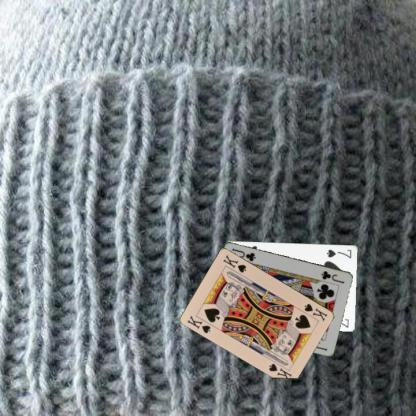7s: (324, 247, 353, 259)
Jc: (319, 268, 346, 286)
Ks: (301, 300, 328, 322), (185, 312, 212, 334)
